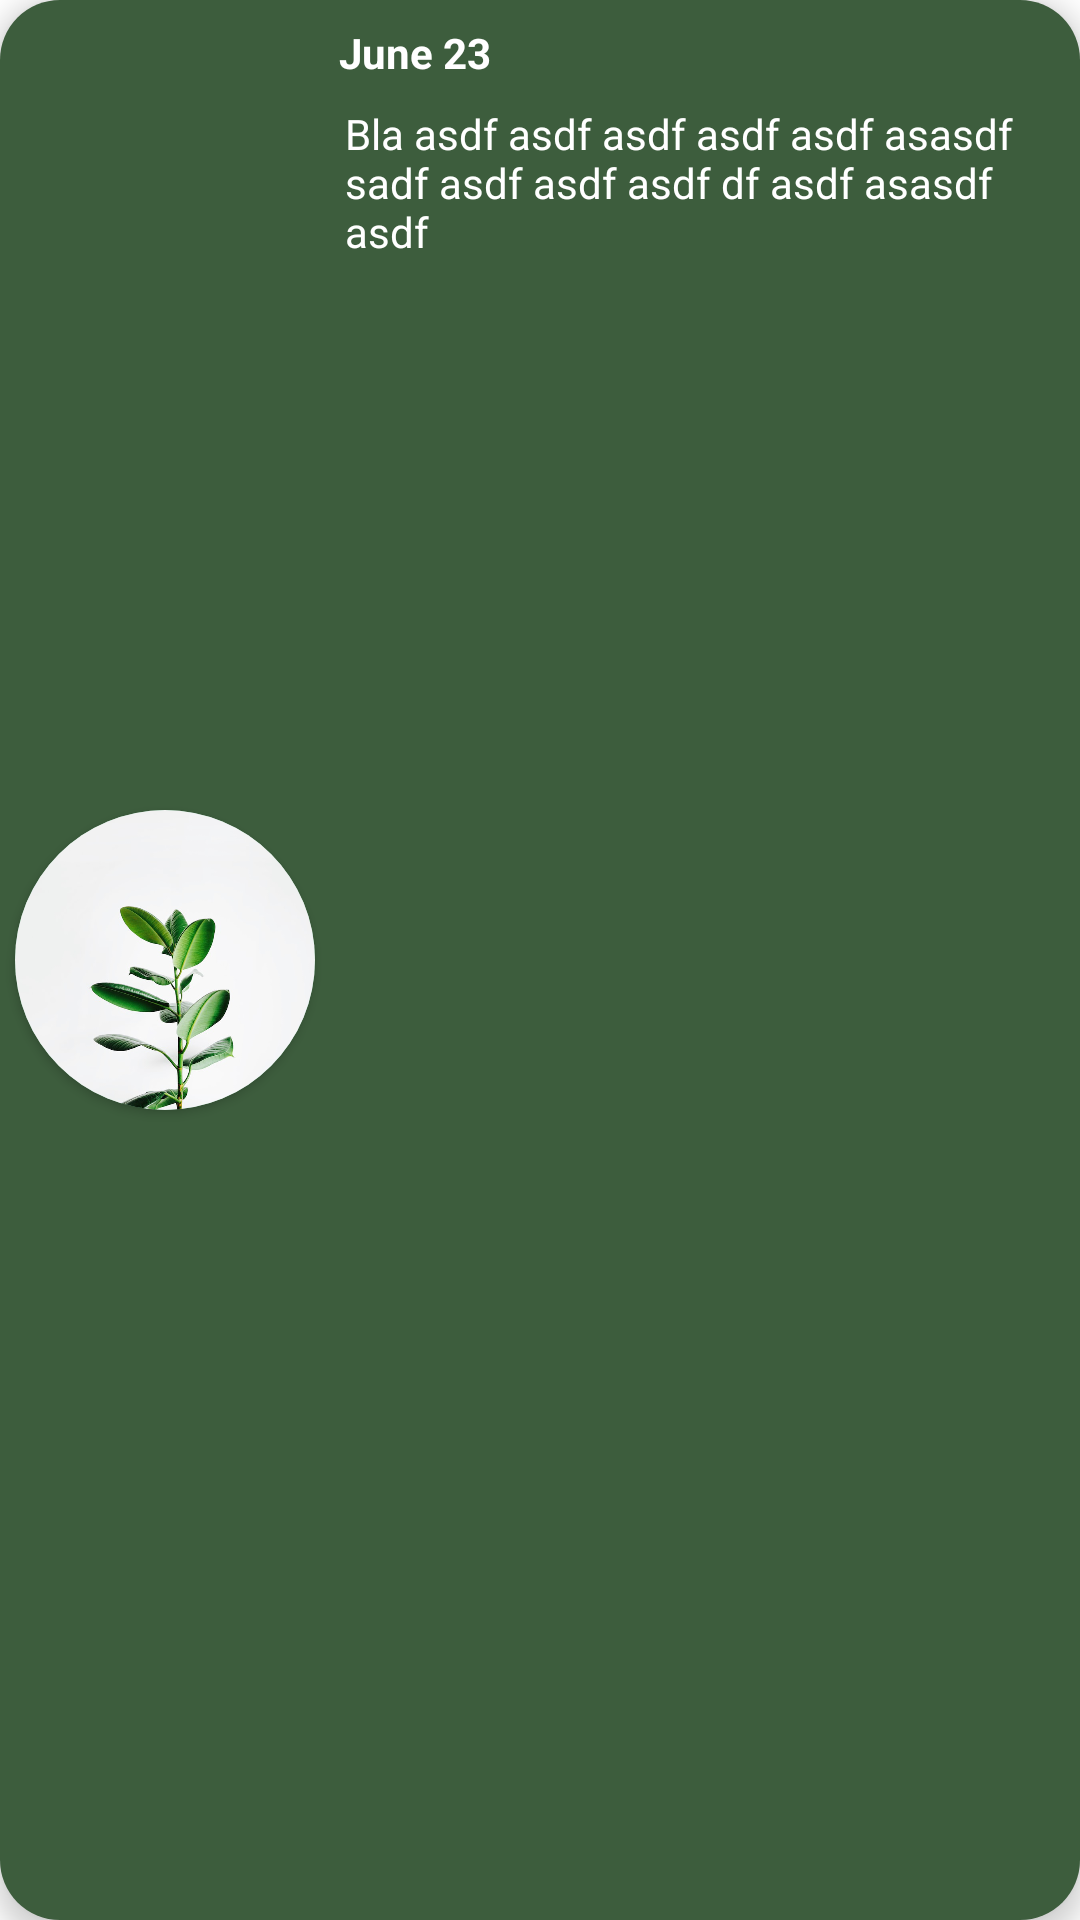

Locate icon controls on the screen. Image size 1080*1920, boxes as bbox=[x1, y1, x2, y2].
plant: bbox=[15, 810, 315, 1110]
